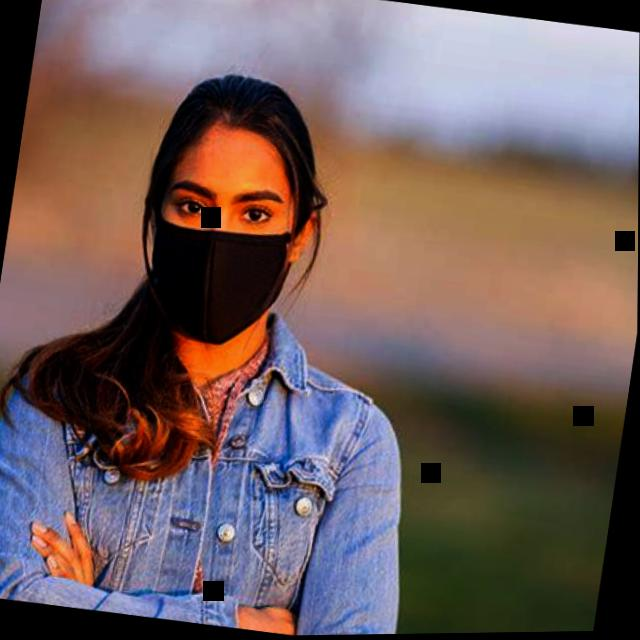Mask: (128, 61, 336, 360)
